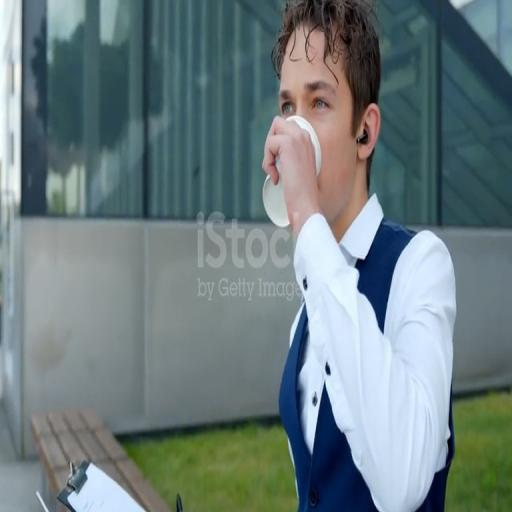earphone: (358, 122, 368, 152)
